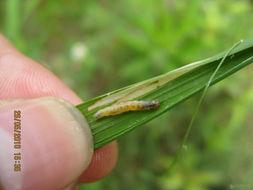pest: (93, 100, 159, 117)
